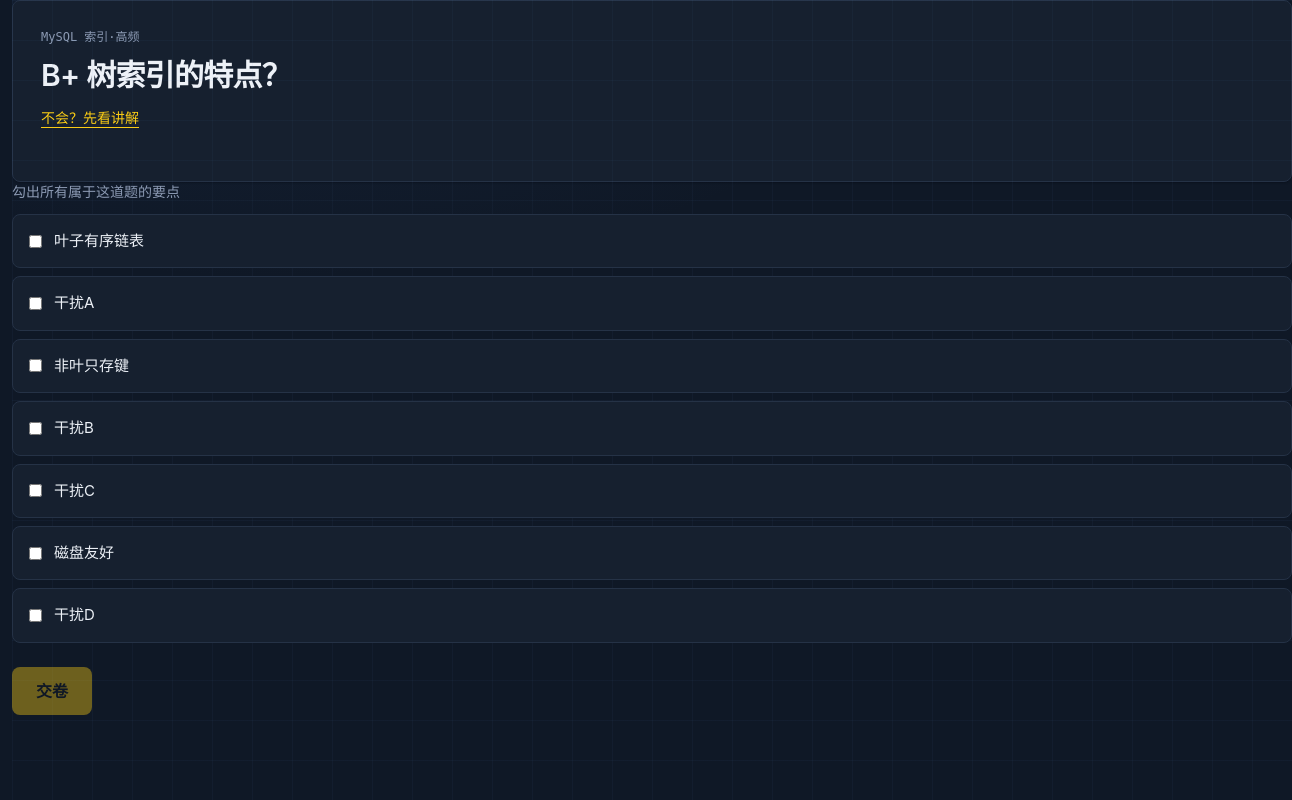
空勾选时提交禁用；勾一项后启用
Expected: the button "交卷" is disabled, [12,667,92,715]
Step 1. Click the checkbox labelled "叶子有序链表" → (36, 241), box [29,235,42,248]
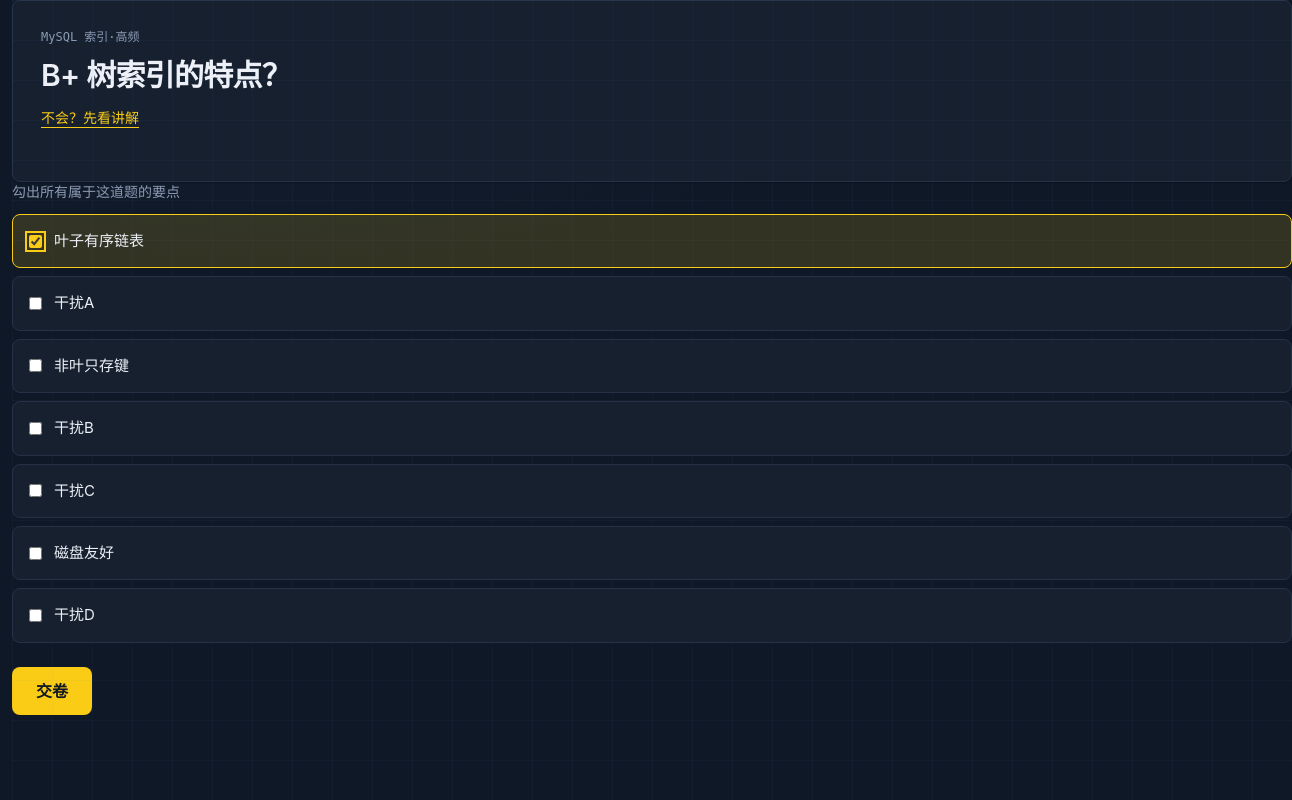
Now the button "交卷" is enabled, box [12,667,92,715]
